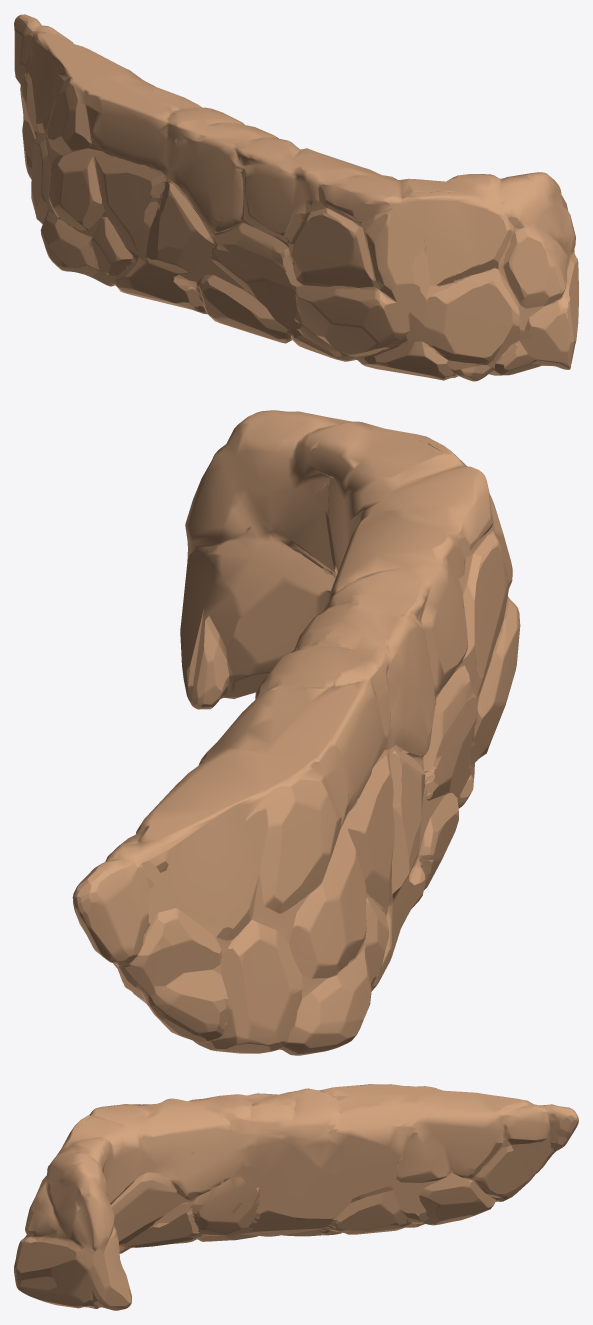
3 views of the same model, one above another, from view 1: azimuth 30°, elevation 25°; view 2: azimuth 150°, elevation 25°; view 3: azimuth 270°, elevation 25° (orthographic). The views are drawn at different scales.
Visible parts, largest first — view 1: Mesh_71_LOD0; view 2: Mesh_71_LOD0; view 3: Mesh_71_LOD0.
Part boxes in pixels (left/top/right/bottom): Mesh_71_LOD0: left=14, top=14, right=578, bottom=381; Mesh_71_LOD0: left=72, top=410, right=520, bottom=1055; Mesh_71_LOD0: left=14, top=1084, right=578, bottom=1310.
Size of what is drawn, in the model's own units: 3796 by 2289 by 7666.
